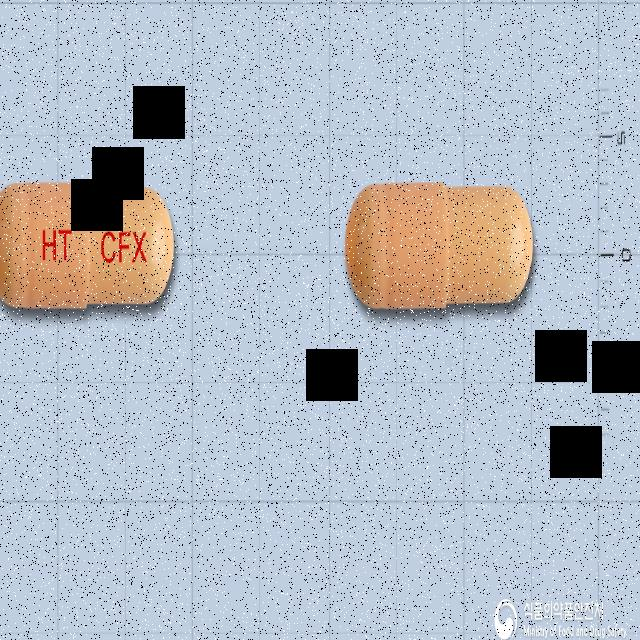Cefaxime Cap: (0, 173, 179, 325)
